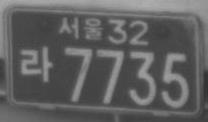2: (129, 19, 150, 46)
3: (127, 49, 157, 108), (106, 17, 129, 45)
5: (160, 51, 190, 109)
7: (62, 45, 94, 104), (94, 47, 125, 105)
라: (19, 45, 54, 83)
서울_O: (57, 15, 105, 41)
